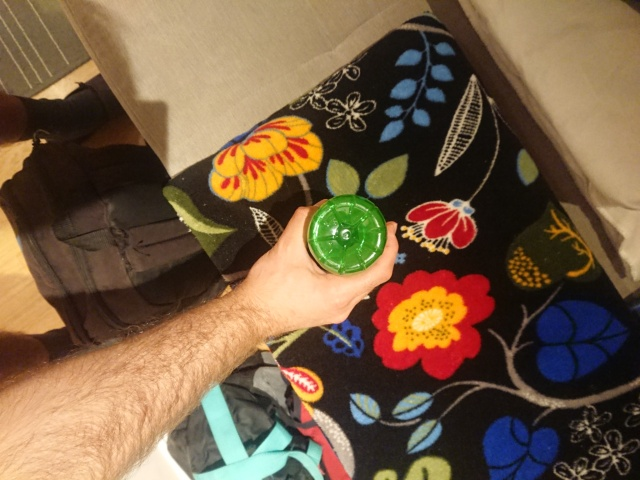Vindi Iso Sport Lemon-Grapefruit 500mL: (303, 191, 390, 279)
